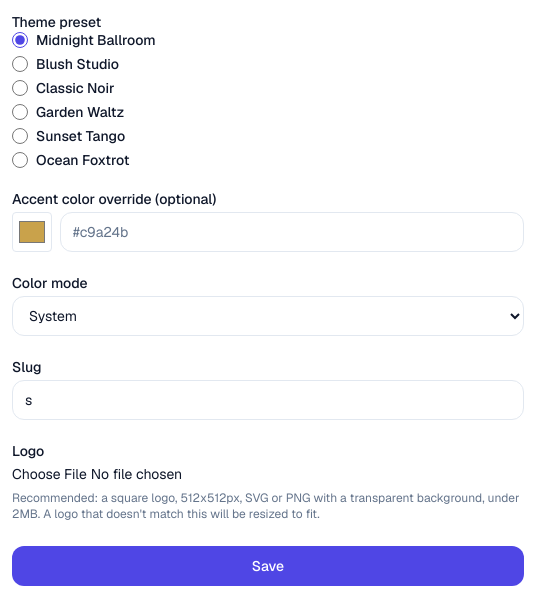
Test case: BrandingSettingsForm › offers a color picker bound to the same accent value as the hex input
The width and height of the screenshot is (541, 603).
Type "#00ff00" into the colour field named "pick accent color" at (32, 232), box left=12, top=212, right=52, bottom=252
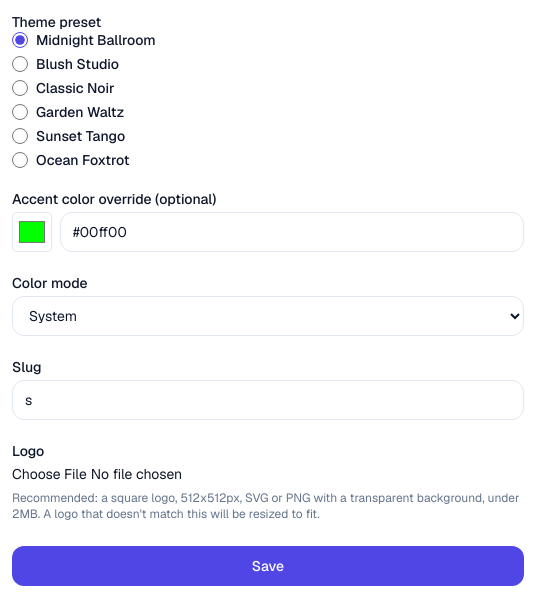
Check: the field with placeholder "#c9a24b" holds "#00ff00", box left=60, top=212, right=524, bottom=252
